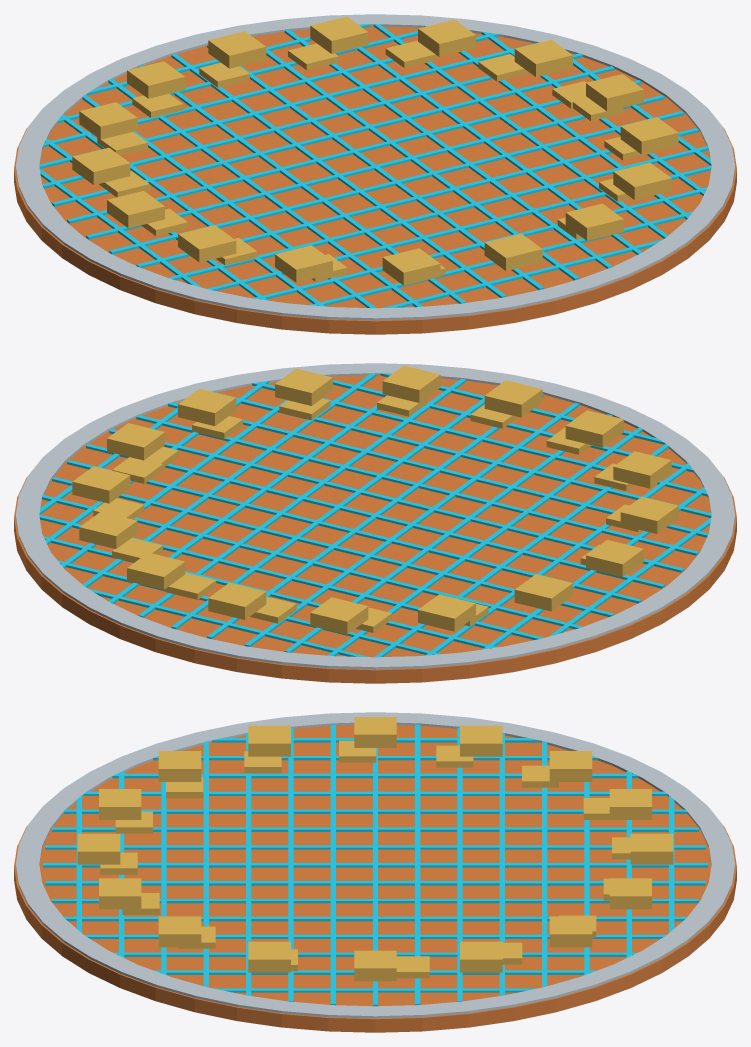
The model's file is 05_L77_ElectroplatedDamasceneWafer.fbx.
3 renders of one model, top to bottom at view 1: azimuth 30°, elevation 25°; view 2: azimuth 150°, elevation 25°; view 3: azimuth 270°, elevation 25°, orthographic.
Parts seen in each view (by area): view 1: ElectroplatedDamasceneWafer_Part_0000, ElectroplatedDamasceneWafer_Part_0001, ElectroplatedDamasceneWafer_Part_0013, ElectroplatedDamasceneWafer_Part_0019, ElectroplatedDamasceneWafer_Part_0023, ElectroplatedDamasceneWafer_Part_0017, ElectroplatedDamasceneWafer_Part_0015, ElectroplatedDamasceneWafer_Part_0021, ElectroplatedDamasceneWafer_Part_0014, ElectroplatedDamasceneWafer_Part_0009, ElectroplatedDamasceneWafer_Part_0011, ElectroplatedDamasceneWafer_Part_0020 (+48 smaller); view 2: ElectroplatedDamasceneWafer_Part_0000, ElectroplatedDamasceneWafer_Part_0001, ElectroplatedDamasceneWafer_Part_0021, ElectroplatedDamasceneWafer_Part_0017, ElectroplatedDamasceneWafer_Part_0015, ElectroplatedDamasceneWafer_Part_0011, ElectroplatedDamasceneWafer_Part_0019, ElectroplatedDamasceneWafer_Part_0013, ElectroplatedDamasceneWafer_Part_0014, ElectroplatedDamasceneWafer_Part_0023, ElectroplatedDamasceneWafer_Part_0025, ElectroplatedDamasceneWafer_Part_0020 (+46 smaller); view 3: ElectroplatedDamasceneWafer_Part_0000, ElectroplatedDamasceneWafer_Part_0001, ElectroplatedDamasceneWafer_Part_0022, ElectroplatedDamasceneWafer_Part_0016, ElectroplatedDamasceneWafer_Part_0012, ElectroplatedDamasceneWafer_Part_0018, ElectroplatedDamasceneWafer_Part_0014, ElectroplatedDamasceneWafer_Part_0020, ElectroplatedDamasceneWafer_Part_0010, ElectroplatedDamasceneWafer_Part_0006, ElectroplatedDamasceneWafer_Part_0024, ElectroplatedDamasceneWafer_Part_0008 (+45 smaller).
Boxes of the visible parts, <box> form: ElectroplatedDamasceneWafer_Part_0000: <box>14,26,736,334</box>; ElectroplatedDamasceneWafer_Part_0001: <box>15,14,735,320</box>; ElectroplatedDamasceneWafer_Part_0013: <box>52,66,614,206</box>; ElectroplatedDamasceneWafer_Part_0019: <box>109,111,683,254</box>; ElectroplatedDamasceneWafer_Part_0023: <box>168,146,708,280</box>; ElectroplatedDamasceneWafer_Part_0017: <box>86,95,664,239</box>; ElectroplatedDamasceneWafer_Part_0015: <box>67,80,641,223</box>; ElectroplatedDamasceneWafer_Part_0021: <box>136,128,698,267</box>; ElectroplatedDamasceneWafer_Part_0014: <box>171,54,506,297</box>; ElectroplatedDamasceneWafer_Part_0009: <box>39,42,539,168</box>; ElectroplatedDamasceneWafer_Part_0011: <box>42,53,582,188</box>; ElectroplatedDamasceneWafer_Part_0020: <box>284,29,612,268</box>; ElectroplatedDamasceneWafer_Part_0000: <box>14,375,736,683</box>; ElectroplatedDamasceneWafer_Part_0001: <box>15,363,735,669</box>; ElectroplatedDamasceneWafer_Part_0021: <box>136,415,698,555</box>; ElectroplatedDamasceneWafer_Part_0017: <box>86,444,664,588</box>; ElectroplatedDamasceneWafer_Part_0015: <box>67,460,641,603</box>; ElectroplatedDamasceneWafer_Part_0011: <box>42,495,582,629</box>; ElectroplatedDamasceneWafer_Part_0019: <box>109,429,683,572</box>; ElectroplatedDamasceneWafer_Part_0013: <box>52,477,614,616</box>; ElectroplatedDamasceneWafer_Part_0014: <box>244,403,579,646</box>; ElectroplatedDamasceneWafer_Part_0023: <box>168,402,708,537</box>; ElectroplatedDamasceneWafer_Part_0025: <box>211,391,711,517</box>; ElectroplatedDamasceneWafer_Part_0020: <box>138,378,466,617</box>; ElectroplatedDamasceneWafer_Part_0000: <box>14,725,736,1032</box>; ElectroplatedDamasceneWafer_Part_0001: <box>15,712,735,1018</box>; ElectroplatedDamasceneWafer_Part_0022: <box>64,916,686,921</box>; ElectroplatedDamasceneWafer_Part_0016: <box>43,863,707,867</box>; ElectroplatedDamasceneWafer_Part_0012: <box>52,827,698,831</box>; ElectroplatedDamasceneWafer_Part_0018: <box>45,881,705,885</box>; ElectroplatedDamasceneWafer_Part_0014: <box>45,845,705,849</box>; ElectroplatedDamasceneWafer_Part_0020: <box>52,899,698,903</box>; ElectroplatedDamasceneWafer_Part_0010: <box>64,809,686,813</box>; ElectroplatedDamasceneWafer_Part_0006: <box>112,773,638,778</box>; ElectroplatedDamasceneWafer_Part_0024: <box>84,934,666,938</box>; ElectroplatedDamasceneWafer_Part_0008: <box>83,791,667,795</box>.
Bounding box in the file's own units: 136 × 7.75 × 136.
